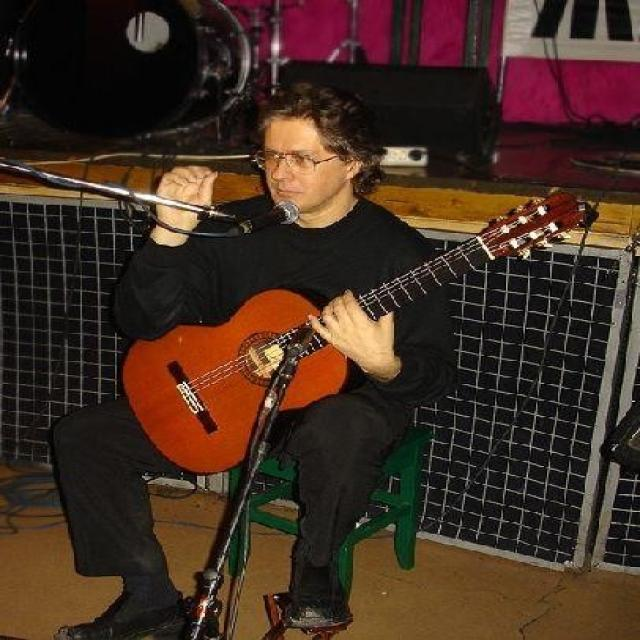guitar: (120, 186, 599, 480)
